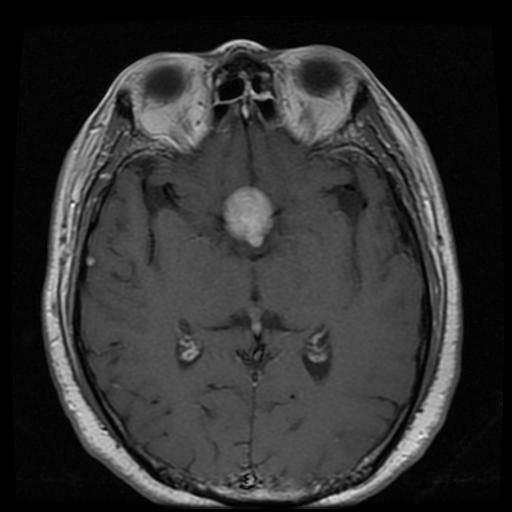Tumour-Pituitary: (206, 184, 290, 253)
